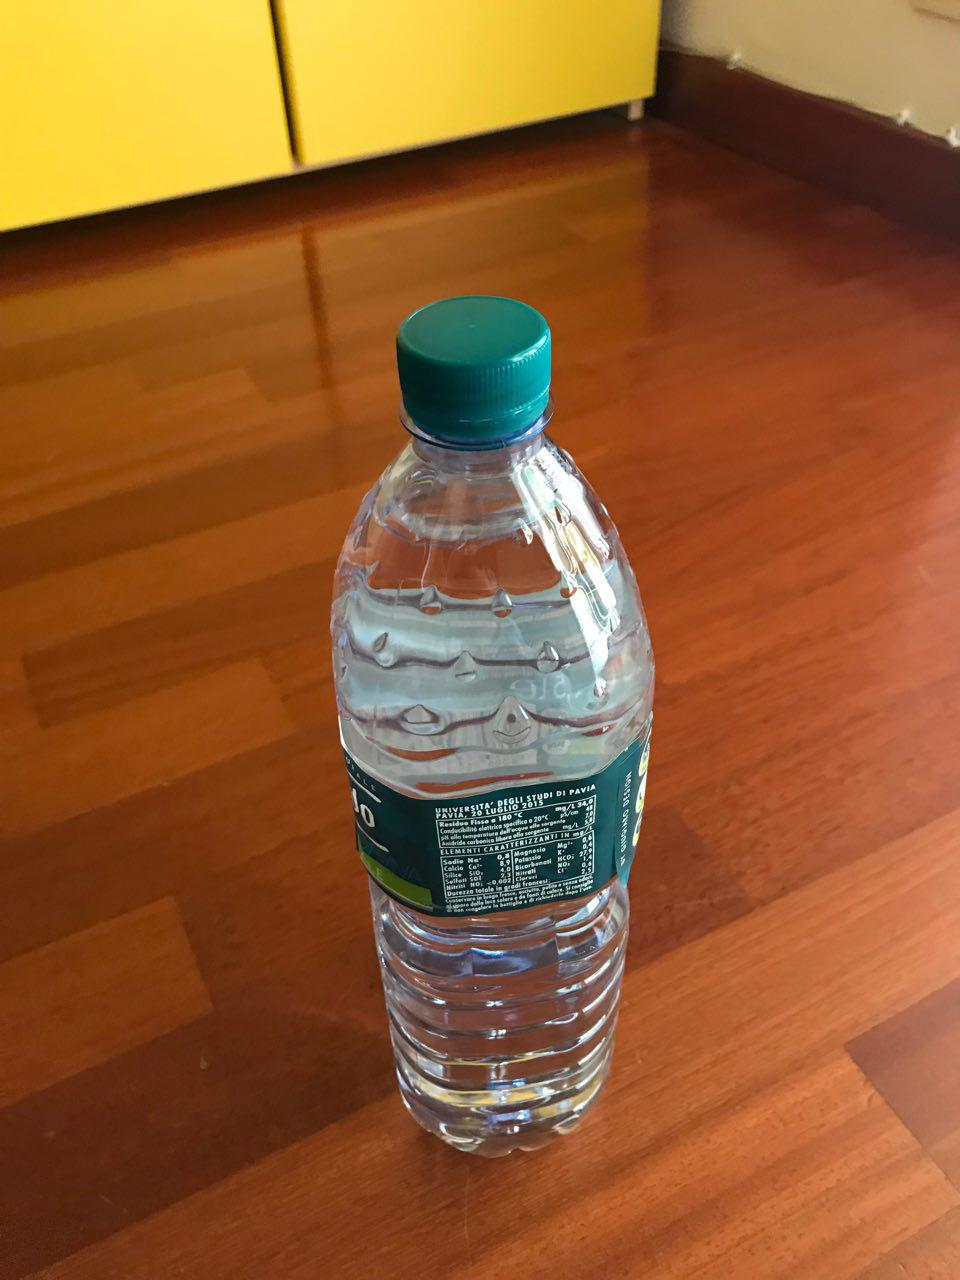san_bernardo: (327, 294, 658, 1163)
